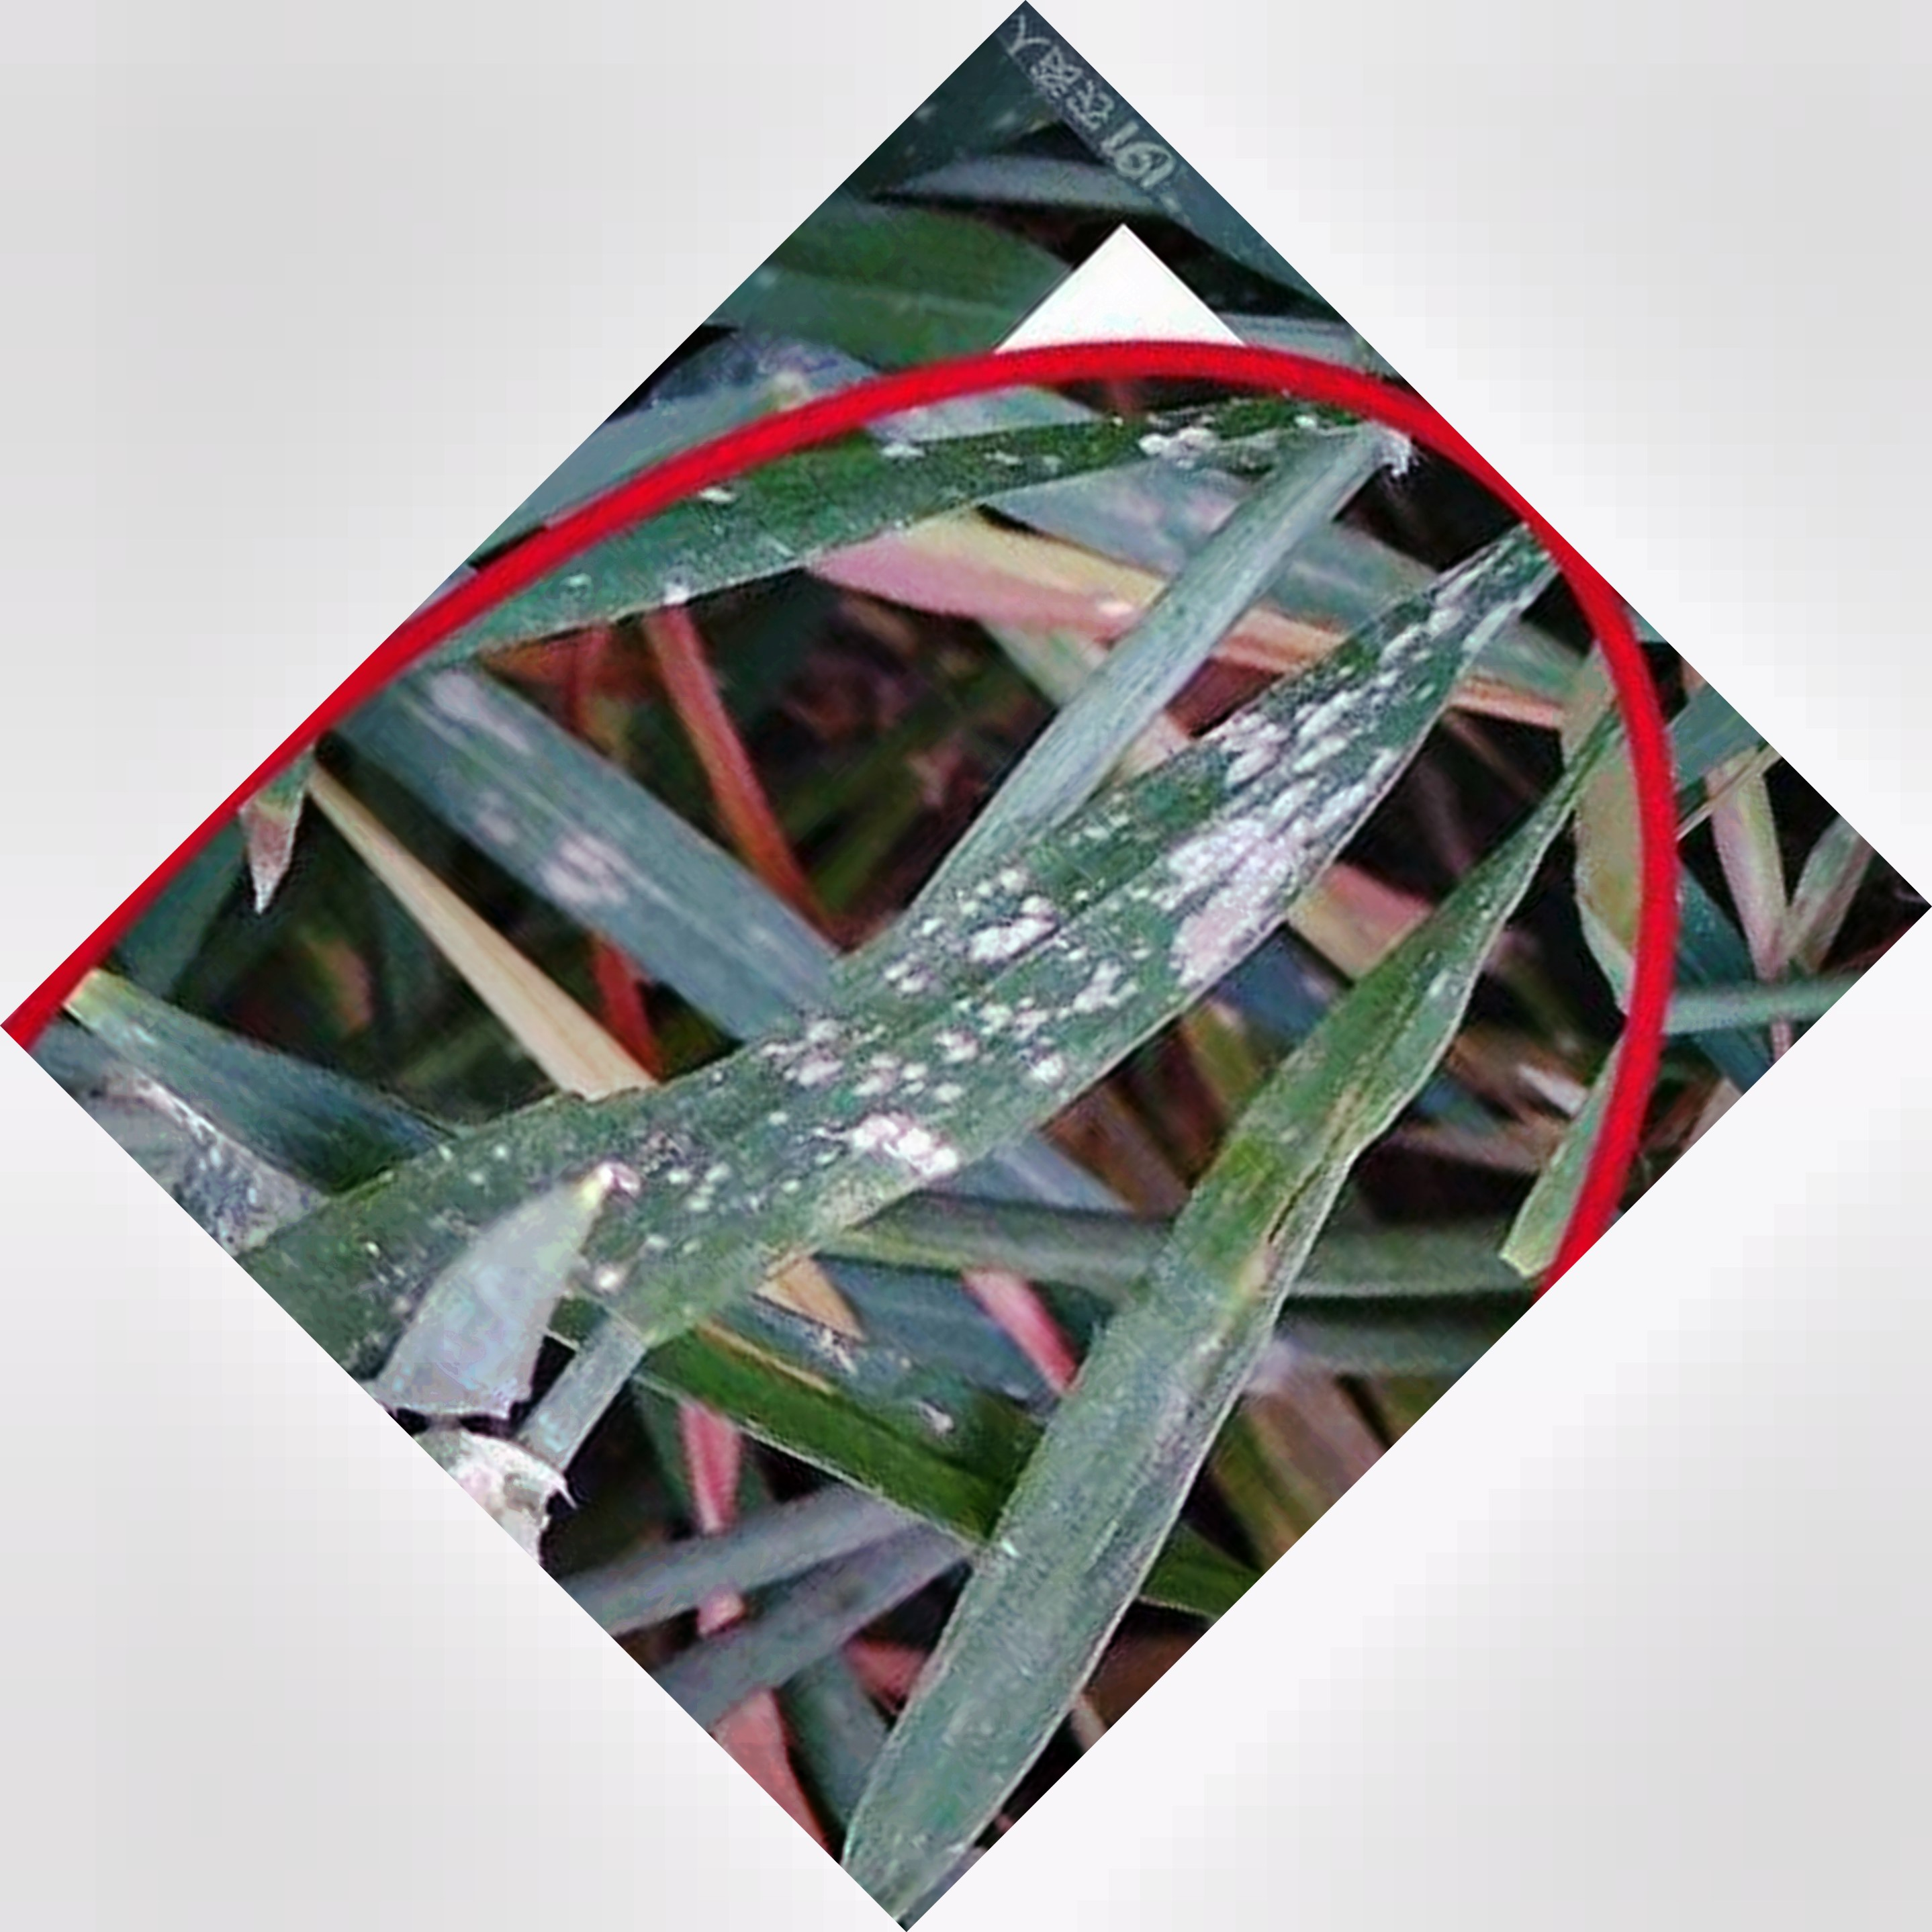Powdery Mildew: (713, 584, 1488, 1240)
